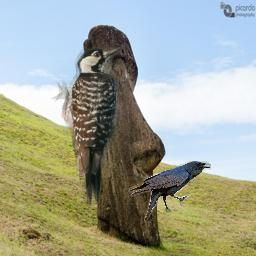Crow: (128, 161, 211, 221)
Woodpecker: (51, 47, 124, 214)
